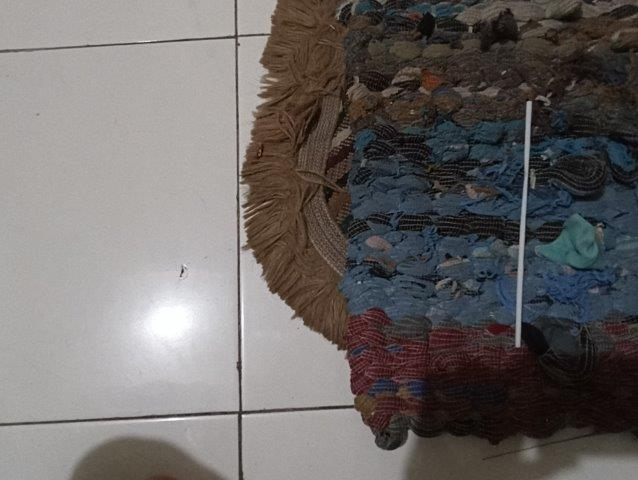sedotan: (514, 102, 532, 346)
